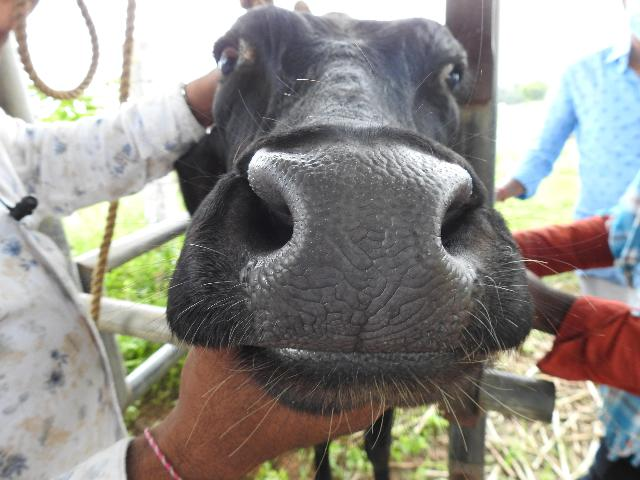Muzzle: (273, 153, 442, 352)
